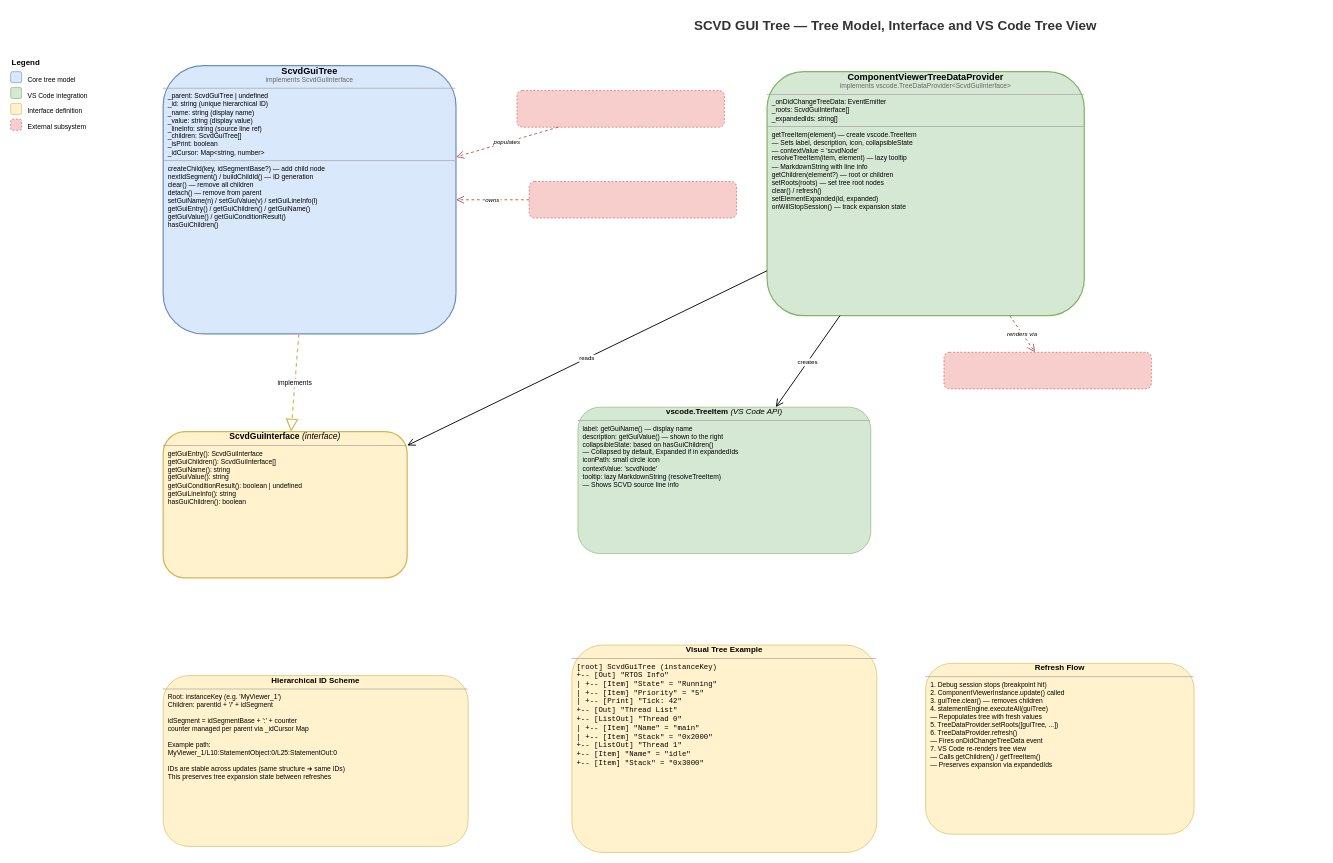
Some shapes in this 1333 by 863 pixel diagram are drawn without their labels. The box of each missing label's shape, as (x1, y1, x2, y2) in pixels:
ComponentViewerInstance (owns ScvdGuiTree): (529, 181, 737, 218)
StatementEngine (populates tree during executeAll): (516, 90, 724, 127)
VS Code TreeView API (renders the tree in sidebar): (943, 352, 1151, 389)
